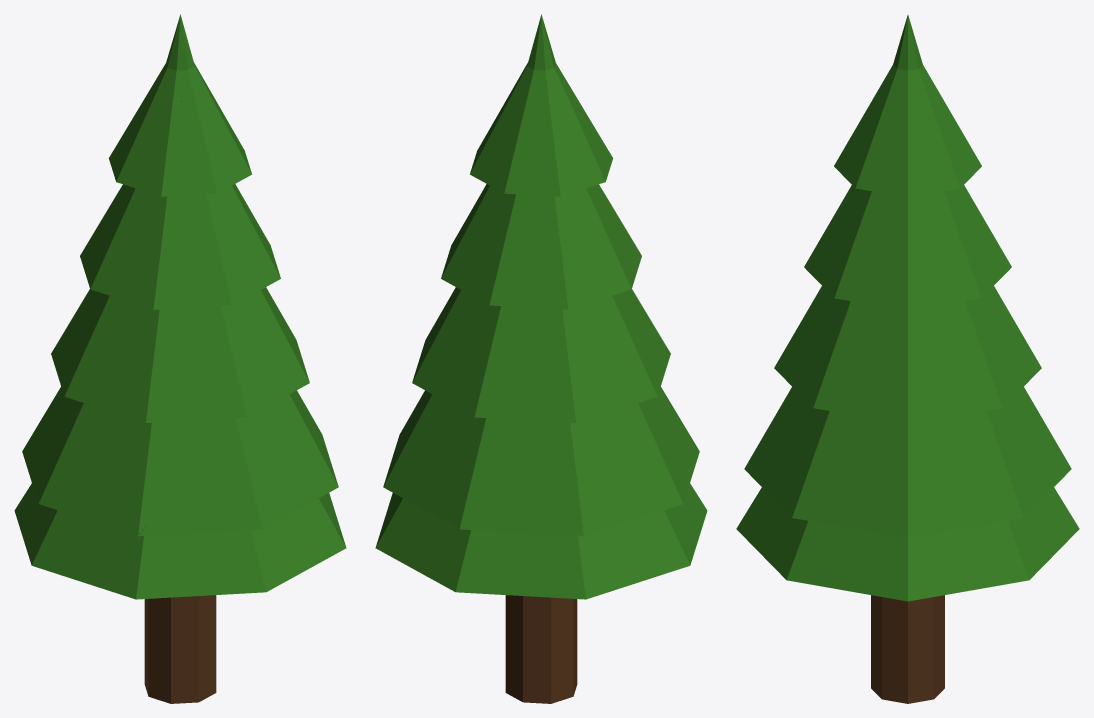
The model's file is Arvore.fbx.
3 views of the same model, side by side, from view 1: azimuth 30°, elevation 25°; view 2: azimuth 150°, elevation 25°; view 3: azimuth 270°, elevation 25° (orthographic).
Parts seen in each view (by area): view 1: Arvore.009; view 2: Arvore.009; view 3: Arvore.009.
Boxes of the visible parts, x1,y1,x2,y2 form: Arvore.009: (14,14,346,703); Arvore.009: (375,14,707,703); Arvore.009: (736,15,1079,703).
Size of the model in its own units: 1275 by 2762 by 1275.
